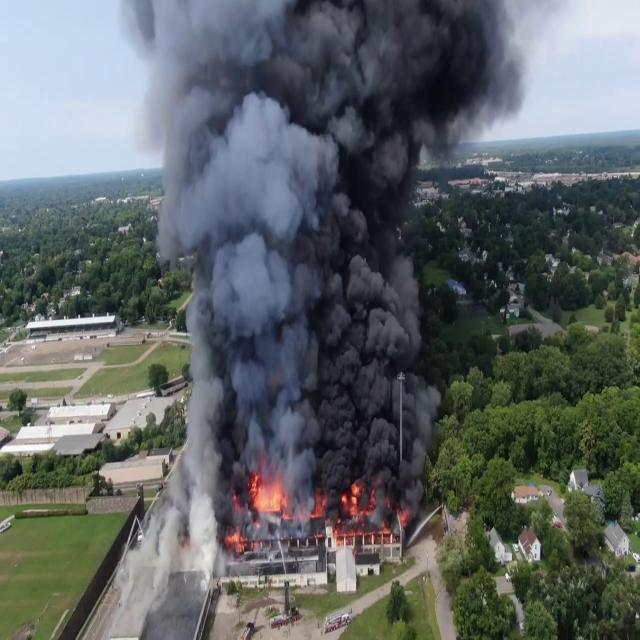Smoke: (139, 0, 512, 508)
